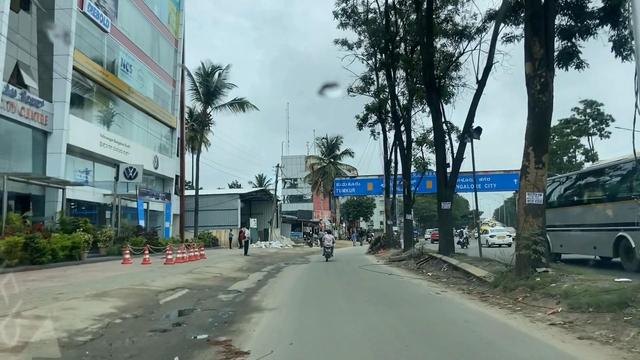RoadDamages: (149, 296, 241, 355)
